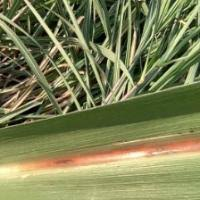Red-Rot: (12, 134, 200, 170)
